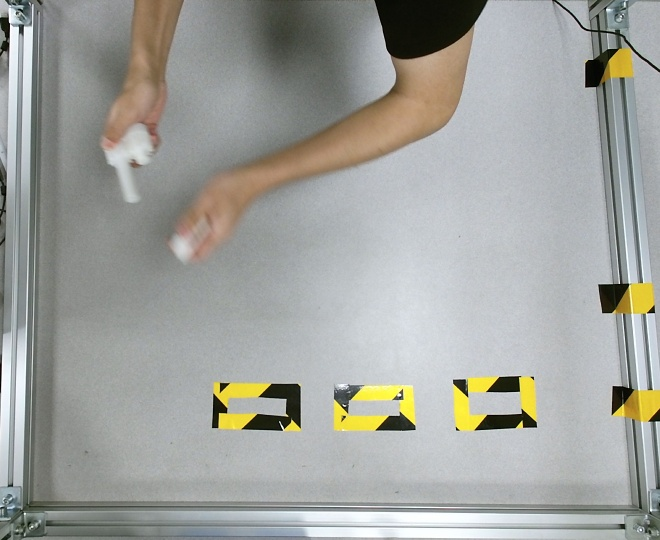stage_3: (102, 122, 155, 202)
